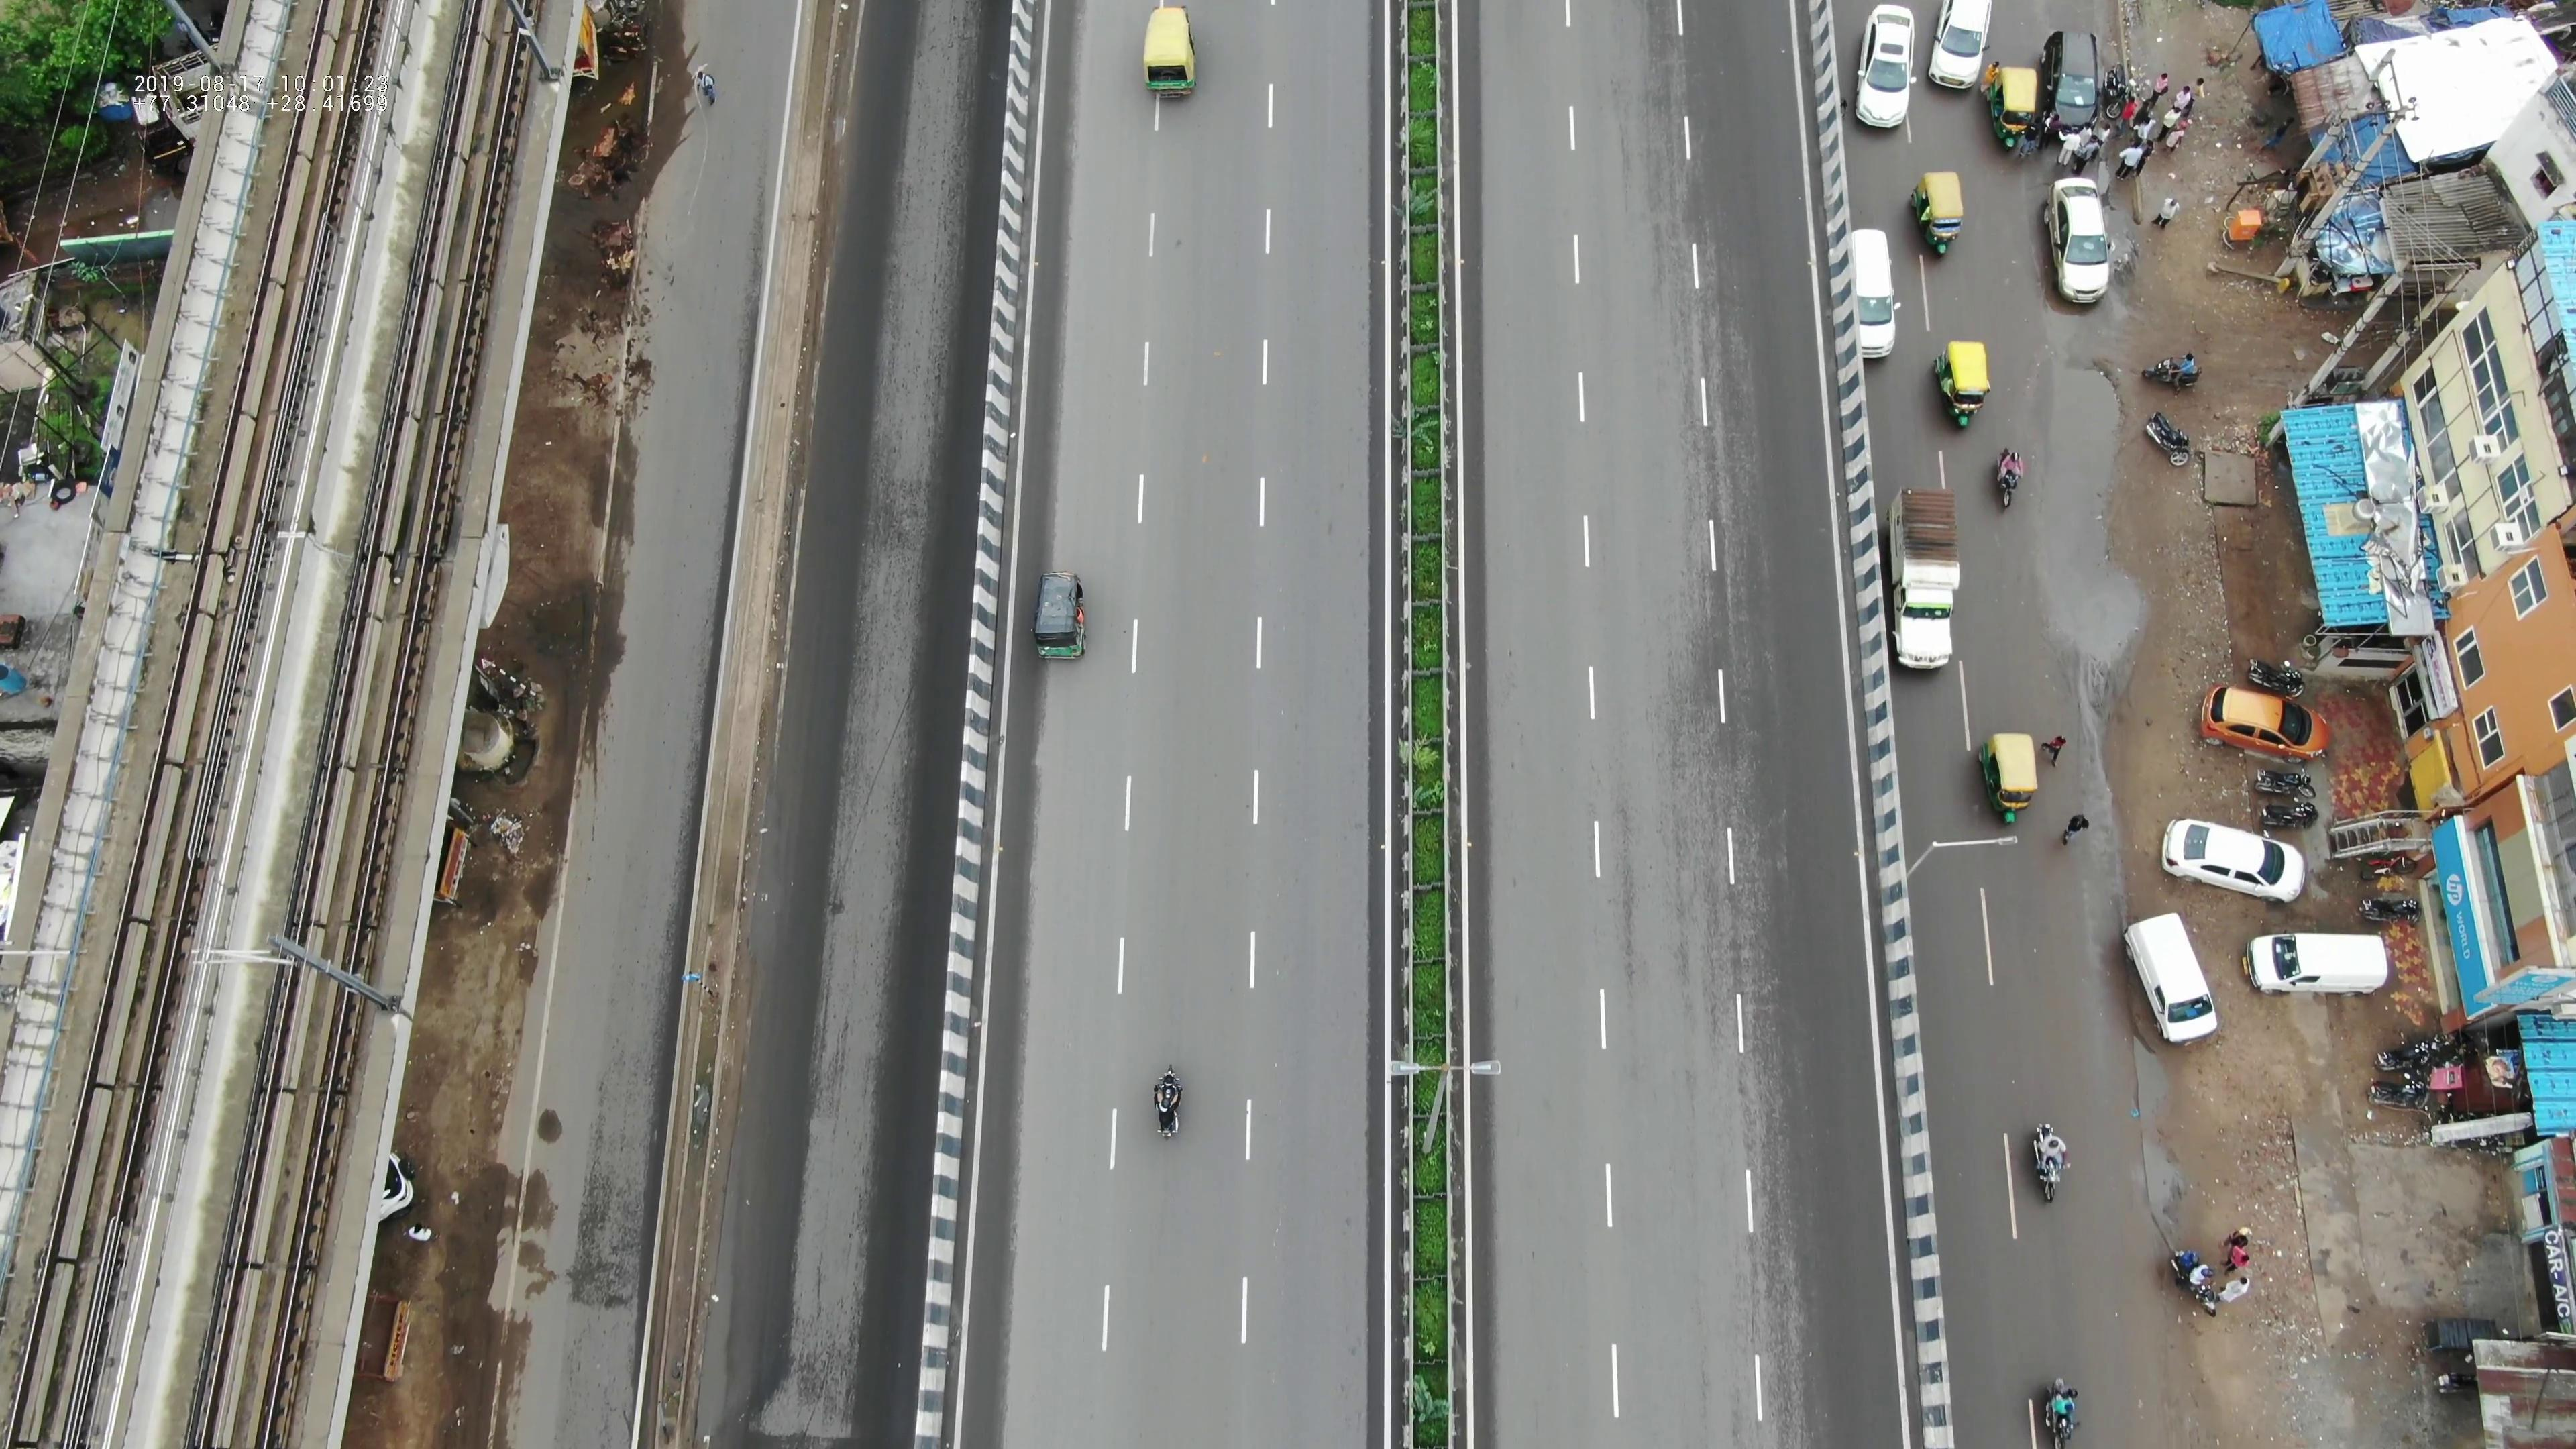Waterlogging: (2028, 368, 2139, 672)
